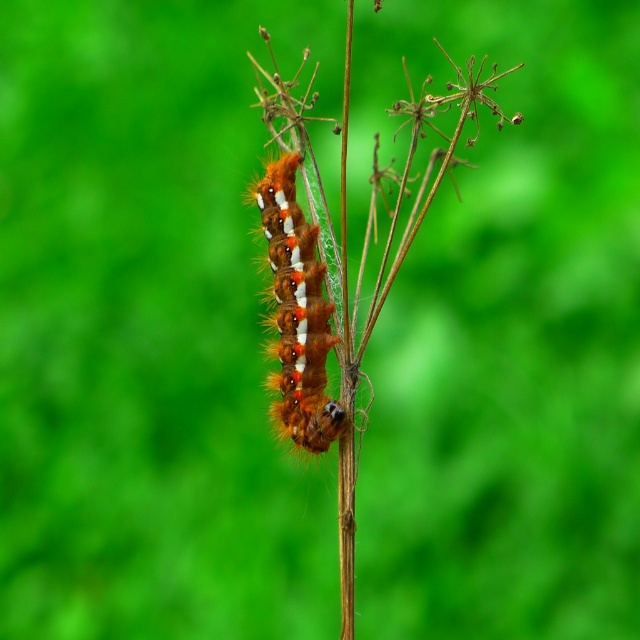Caterpillar: (247, 112, 358, 483)
